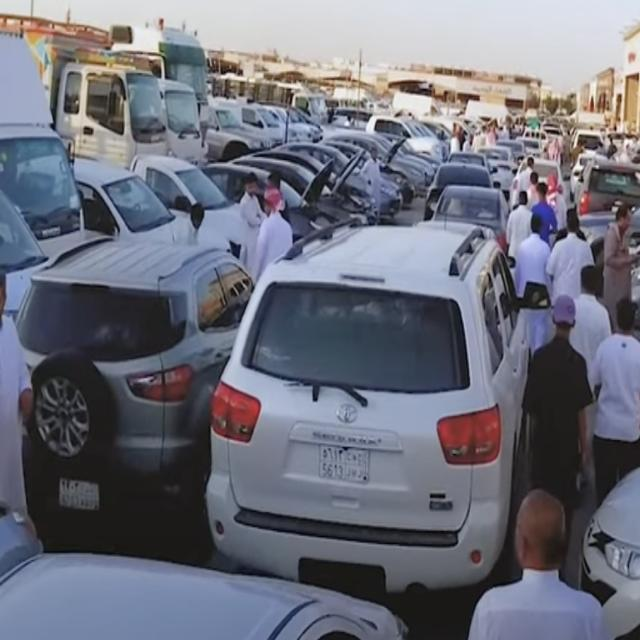license_plate: (316, 447, 372, 483), (57, 480, 100, 512)
